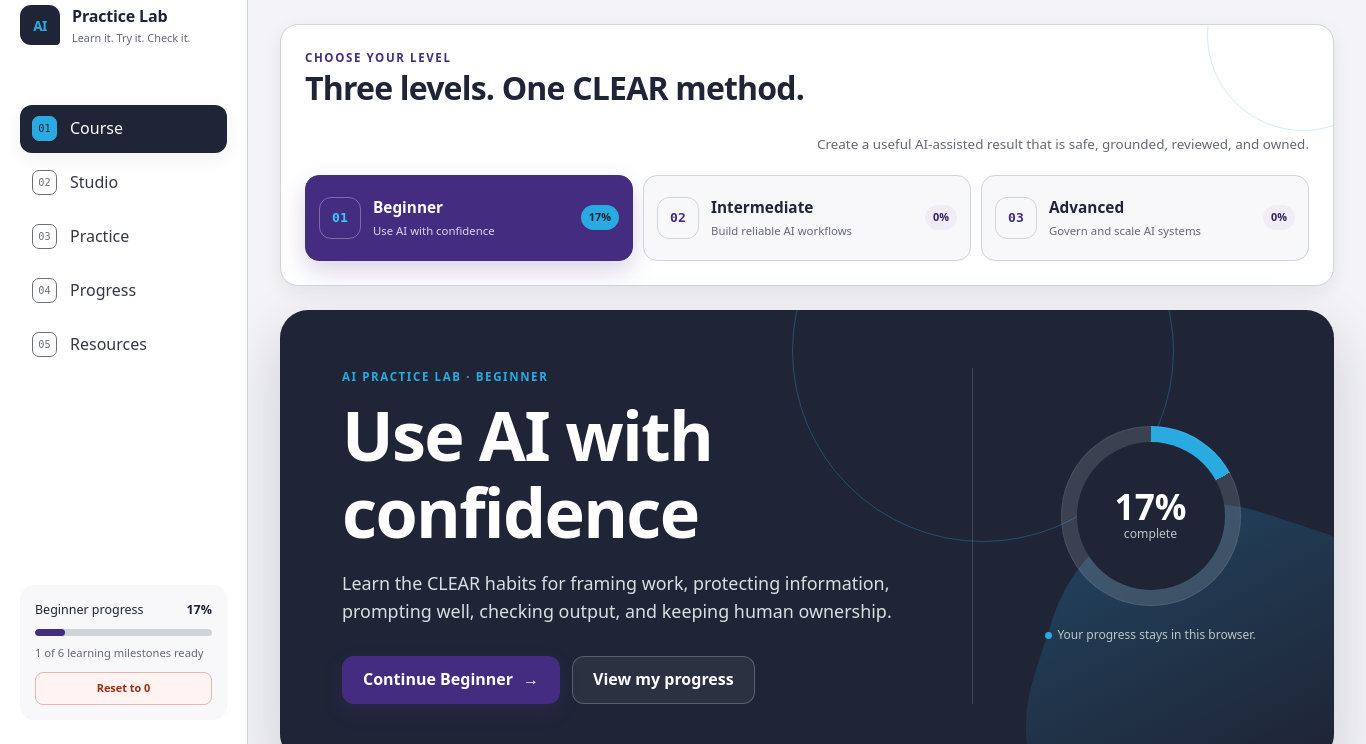
Test: AI Practice Lab learner behavior › resets learning records while retaining the learner profile
Step 1. Click the button "Reset to 0" → coordinates (124, 689), box [35, 672, 212, 705]
(page scrolled)
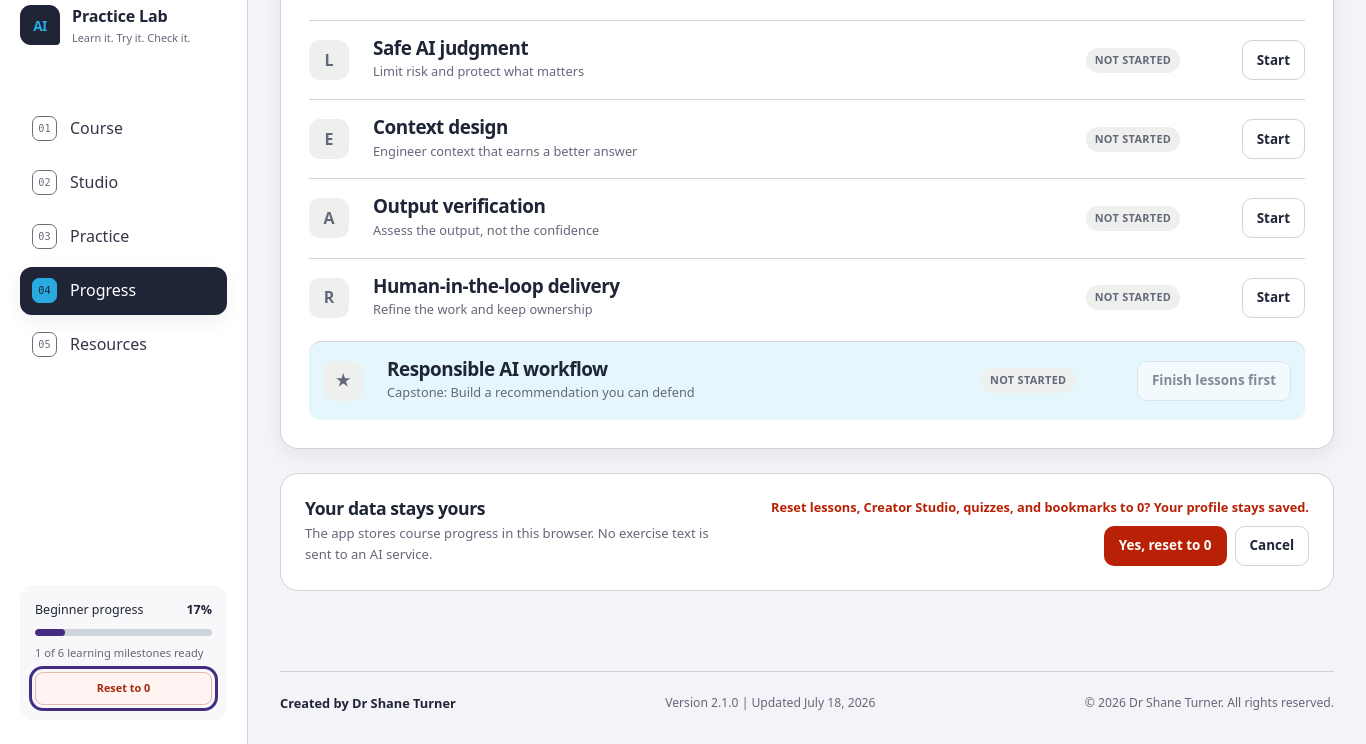
Step 2. Click the button "Yes, reset to 0" → coordinates (1165, 546), box [1104, 526, 1226, 566]
(page scrolled)
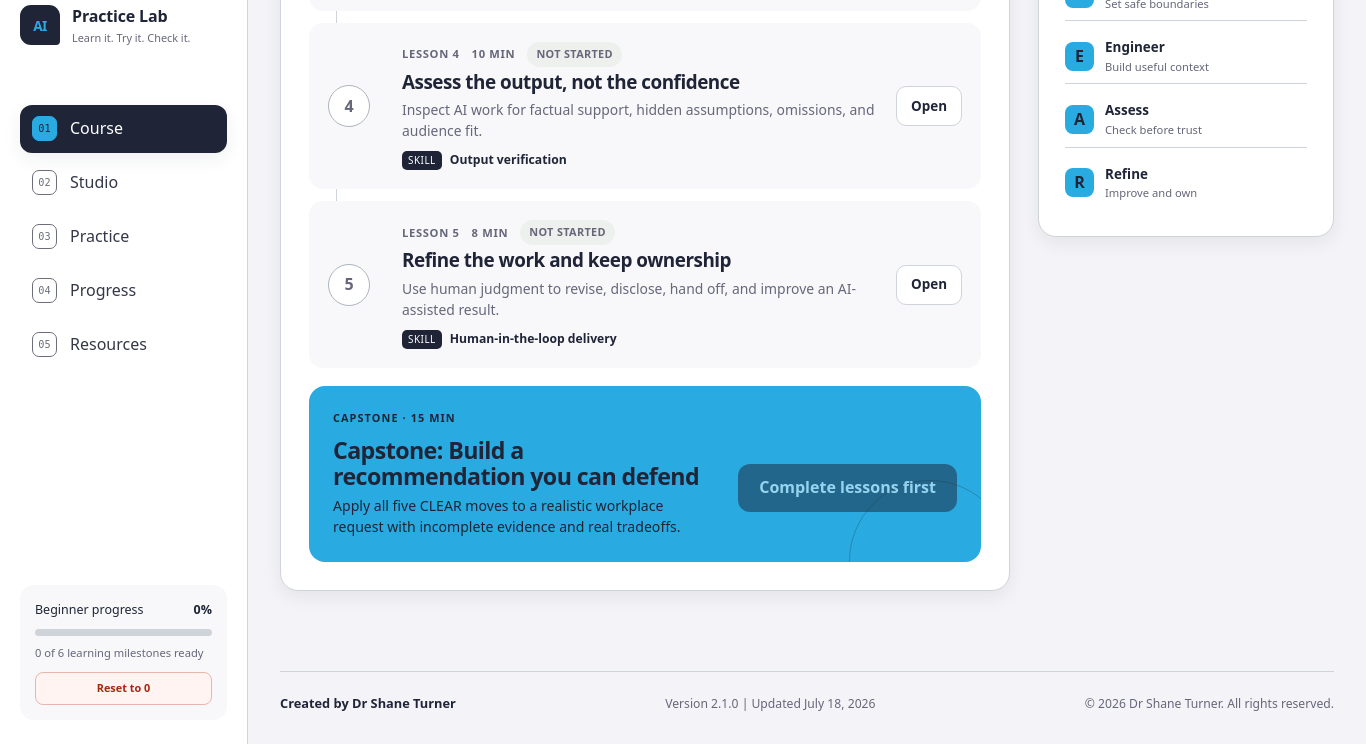
expect the text "0 of 6 learning milestones ready" is shown: met, box [35, 645, 212, 660]
